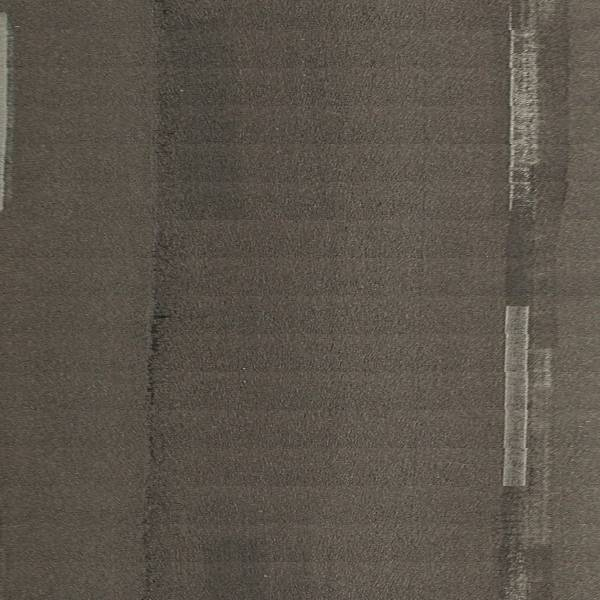road_damage: (139, 301, 181, 468)
